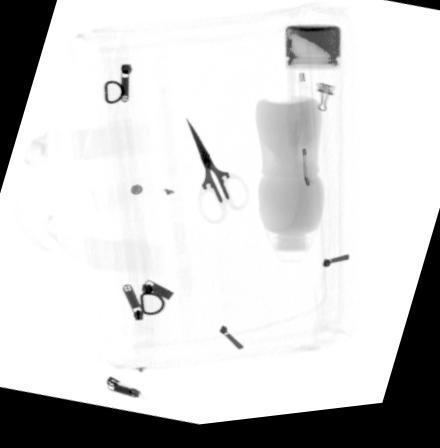Scissors: (185, 122, 250, 220)
